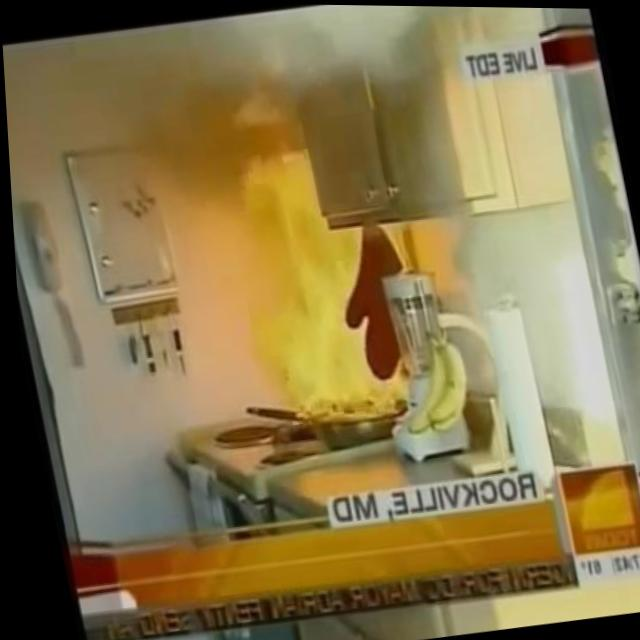fire: (250, 220, 394, 435)
